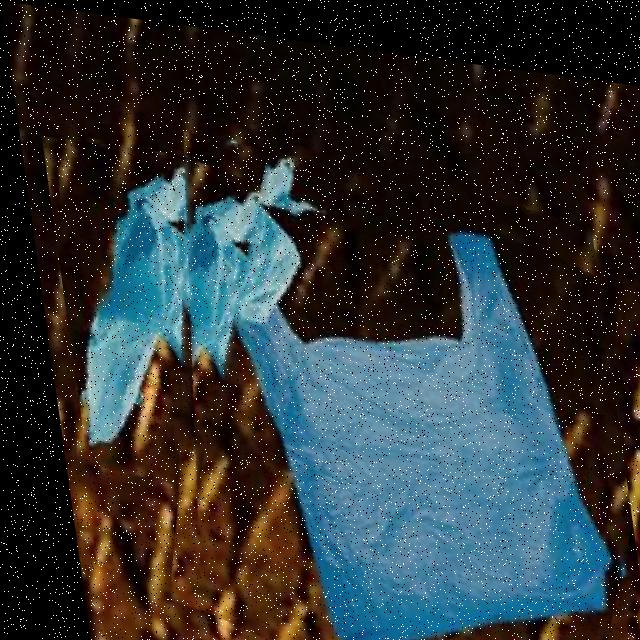plasticcover: (124, 120, 640, 640), (37, 134, 281, 505)
